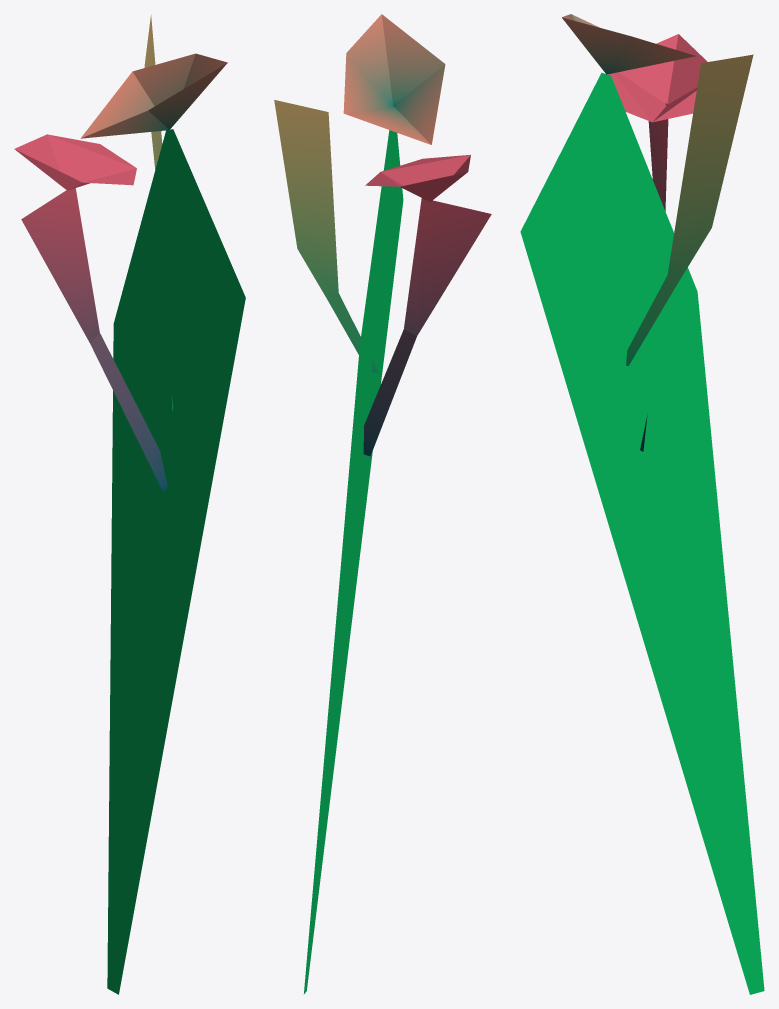
File: Nordic_Coastal_Groundcover_vlqkdeaja_Mid_vlqkdeaja_VarG_LOD1.fbx
3 renders of one model, left to right at view 1: azimuth 30°, elevation 25°; view 2: azimuth 150°, elevation 25°; view 3: azimuth 270°, elevation 25°, orthographic. The views are drawn at different scales.
Visible parts, largest first — view 1: _t5jd_VarG_LOD3; view 2: _t5jd_VarG_LOD3; view 3: _t5jd_VarG_LOD3.
Part boxes in pixels (box(x1,y1,x2,y2)): _t5jd_VarG_LOD3: box(14, 15, 245, 994); _t5jd_VarG_LOD3: box(274, 14, 491, 994); _t5jd_VarG_LOD3: box(520, 14, 764, 994).
Bounding box in the file's own units: 7.03 × 36.39 × 8.18.
